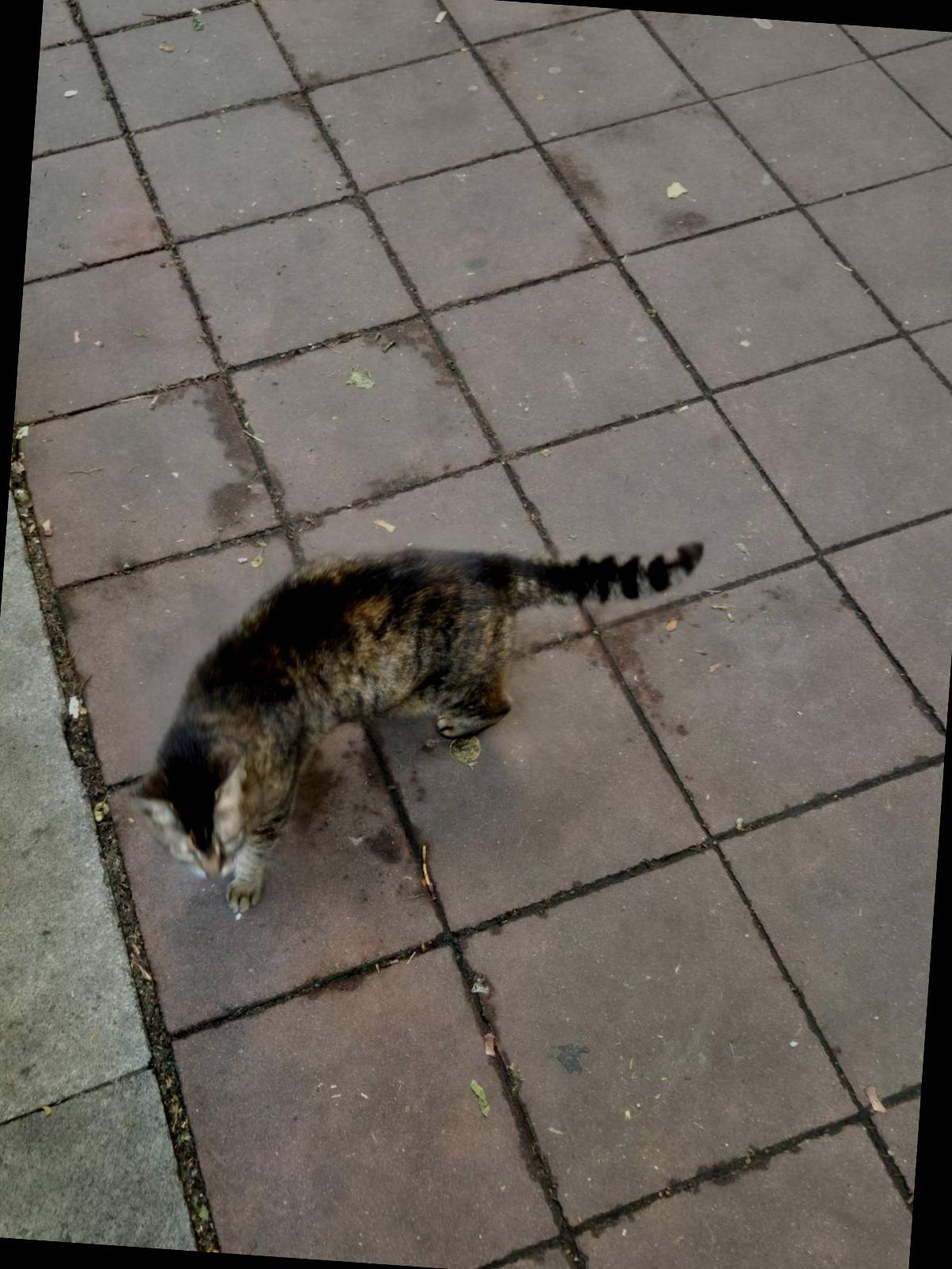macka: (123, 500, 706, 943)
